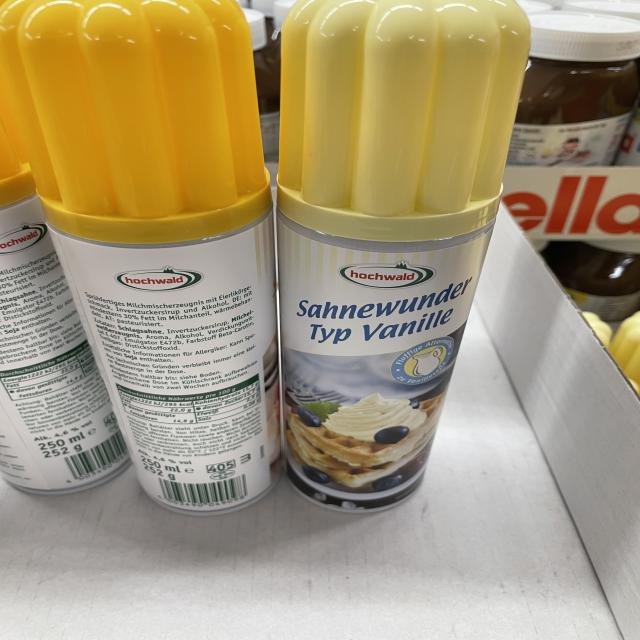Cream: (2, 0, 280, 515), (277, 0, 530, 511), (0, 87, 128, 495)
